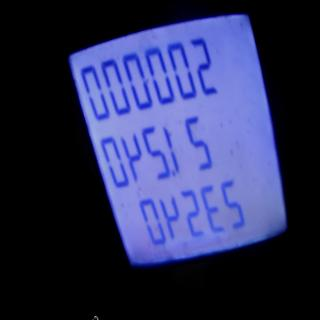screen: (52, 0, 316, 307)
